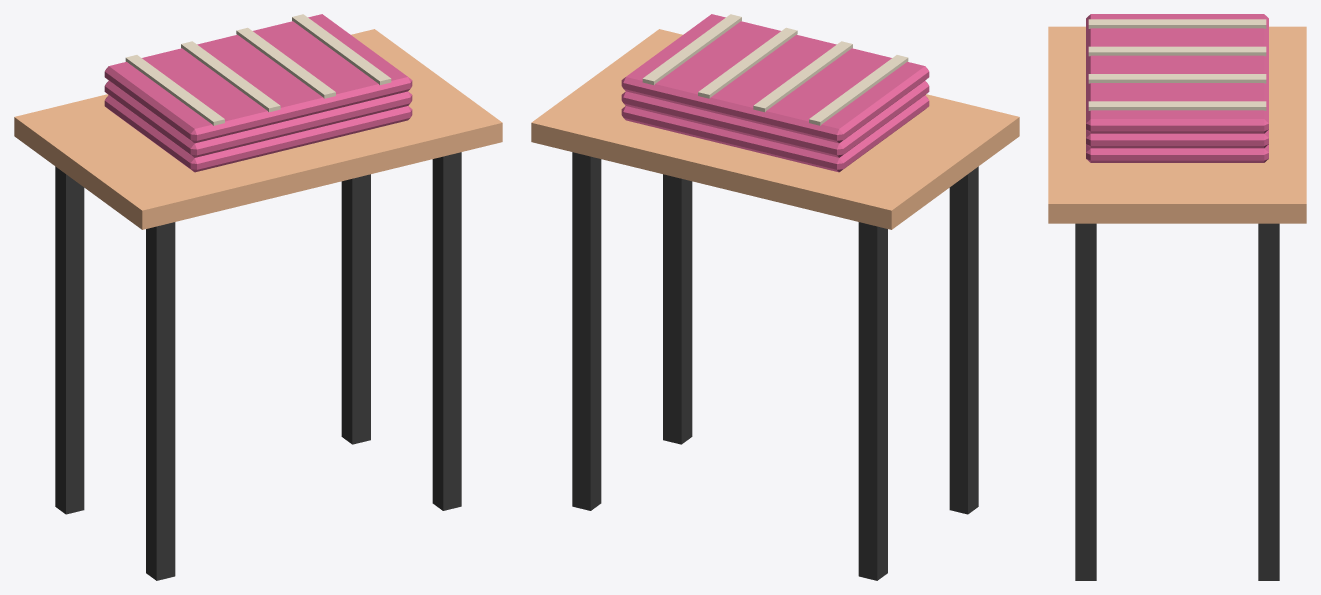
The picture shows the model from 3 angles, left to right: view 1: azimuth 30°, elevation 25°; view 2: azimuth 150°, elevation 25°; view 3: azimuth 270°, elevation 25°; orthographic projection.
Visible parts, largest first — view 1: Display tabletop, Folded textile.002, Display support leg, Display support leg.002, Display support leg.001, Display support leg.003, Folded textile.001, Folded textile, Woven blanket stripe.001, Woven blanket stripe, Woven blanket stripe.002, Woven blanket stripe.003; view 2: Display tabletop, Folded textile.002, Display support leg.001, Display support leg.003, Display support leg, Display support leg.002, Folded textile.001, Folded textile, Woven blanket stripe.001, Woven blanket stripe, Woven blanket stripe.002, Woven blanket stripe.003; view 3: Display tabletop, Folded textile.002, Display support leg.002, Display support leg.003, Folded textile.001, Folded textile, Woven blanket stripe, Woven blanket stripe.001, Woven blanket stripe.003, Woven blanket stripe.002.
Part boxes in pixels (left/top/right/bottom): Display tabletop: left=14, top=29, right=502, bottom=229; Folded textile.002: left=104, top=14, right=412, bottom=143; Display support leg: left=146, top=222, right=175, bottom=580; Display support leg.002: left=432, top=152, right=461, bottom=510; Display support leg.001: left=55, top=166, right=84, bottom=514; Display support leg.003: left=341, top=174, right=370, bottom=444; Folded textile.001: left=104, top=81, right=412, bottom=157; Folded textile: left=104, top=95, right=412, bottom=172; Woven blanket stripe.001: left=181, top=41, right=280, bottom=112; Woven blanket stripe: left=125, top=55, right=224, bottom=125; Woven blanket stripe.002: left=236, top=27, right=335, bottom=98; Woven blanket stripe.003: left=292, top=14, right=391, bottom=84; Display tabletop: left=531, top=29, right=1019, bottom=229; Folded textile.002: left=621, top=14, right=929, bottom=143; Display support leg.001: left=858, top=222, right=887, bottom=580; Display support leg.003: left=572, top=152, right=601, bottom=510; Display support leg: left=949, top=166, right=978, bottom=514; Display support leg.002: left=663, top=174, right=692, bottom=444; Folded textile.001: left=621, top=81, right=929, bottom=157; Folded textile: left=621, top=95, right=929, bottom=172; Woven blanket stripe.001: left=753, top=41, right=852, bottom=112; Woven blanket stripe: left=809, top=55, right=908, bottom=125; Woven blanket stripe.002: left=698, top=27, right=797, bottom=98; Woven blanket stripe.003: left=642, top=14, right=741, bottom=84; Display tabletop: left=1048, top=26, right=1306, bottom=223; Folded textile.002: left=1086, top=14, right=1268, bottom=133; Display support leg.002: left=1075, top=223, right=1096, bottom=580; Display support leg.003: left=1258, top=223, right=1279, bottom=580; Folded textile.001: left=1086, top=130, right=1268, bottom=148; Folded textile: left=1086, top=144, right=1268, bottom=162; Woven blanket stripe: left=1088, top=19, right=1266, bottom=28; Woven blanket stripe.001: left=1088, top=46, right=1266, bottom=56; Woven blanket stripe.003: left=1088, top=101, right=1266, bottom=110; Woven blanket stripe.002: left=1088, top=74, right=1266, bottom=83.
Size of the model in its own units: 0.78 by 0.907 by 0.48.
1 material, 1 textured.
